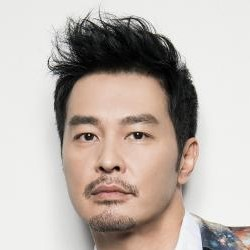unmask: (52, 83, 188, 237)
